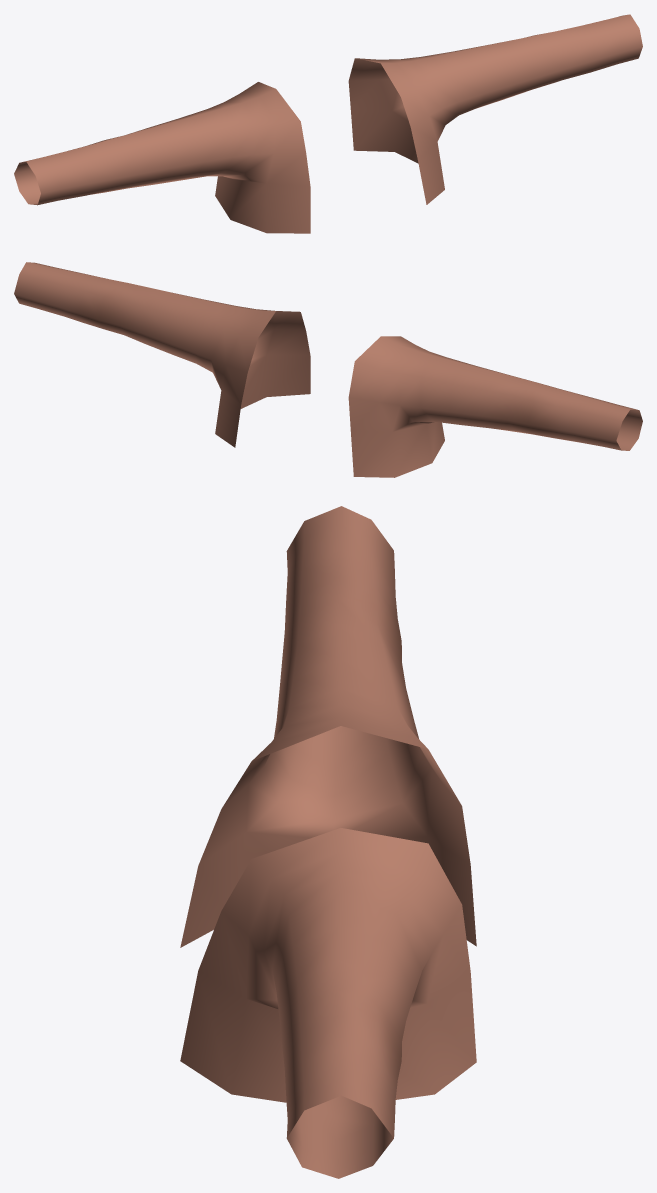
Rendered from Body_Brown_ArmB_2.fbx.
The picture shows the model from 3 angles, top to bottom: view 1: azimuth 30°, elevation 25°; view 2: azimuth 150°, elevation 25°; view 3: azimuth 270°, elevation 25°; orthographic projection. The views are drawn at different scales.
Visible parts, largest first — view 1: Body_Brown_ArmB_2; view 2: Body_Brown_ArmB_2; view 3: Body_Brown_ArmB_2.
Part boxes in pixels (box(x1,y1,x2,y2)): Body_Brown_ArmB_2: box(14, 14, 642, 233); Body_Brown_ArmB_2: box(14, 262, 642, 477); Body_Brown_ArmB_2: box(180, 506, 476, 1178).
Size of the model in its own units: 95.86 by 17.74 by 20.37.
